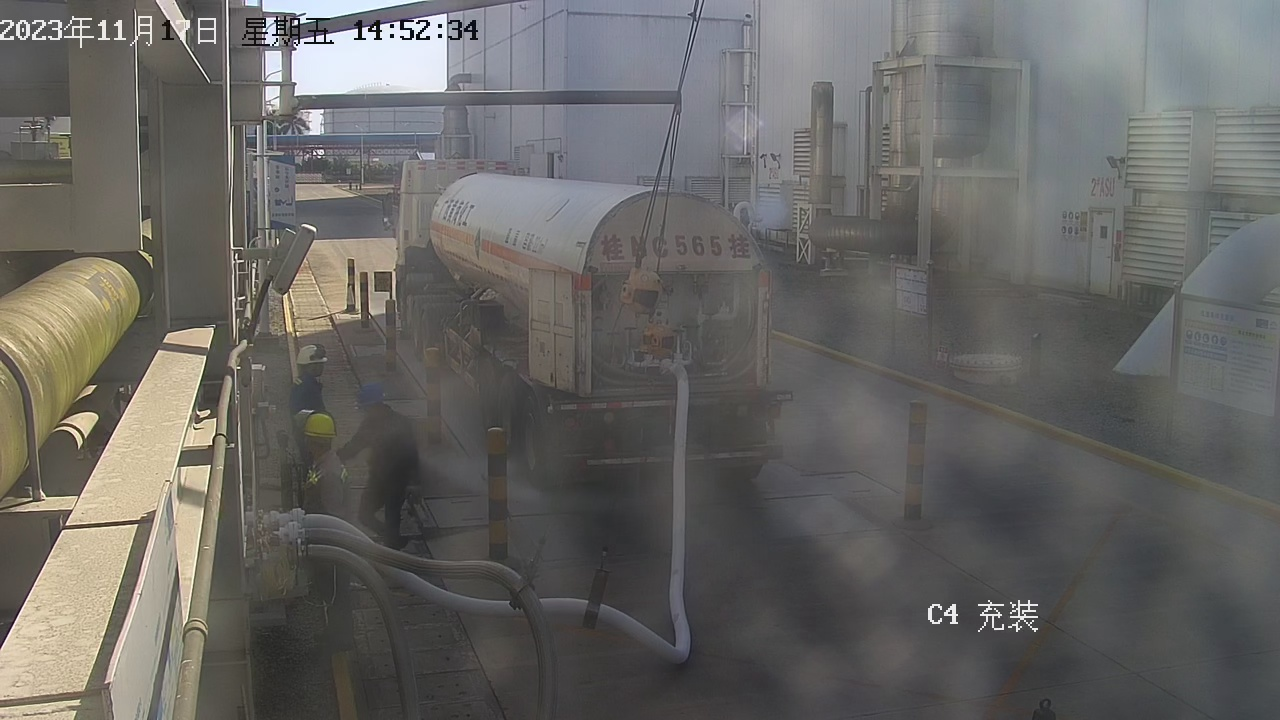Head_with_Helmet: (283, 403, 347, 454), (345, 376, 402, 419), (287, 337, 338, 380)
Uniform: (264, 448, 382, 642), (340, 406, 442, 549), (275, 368, 348, 466)
